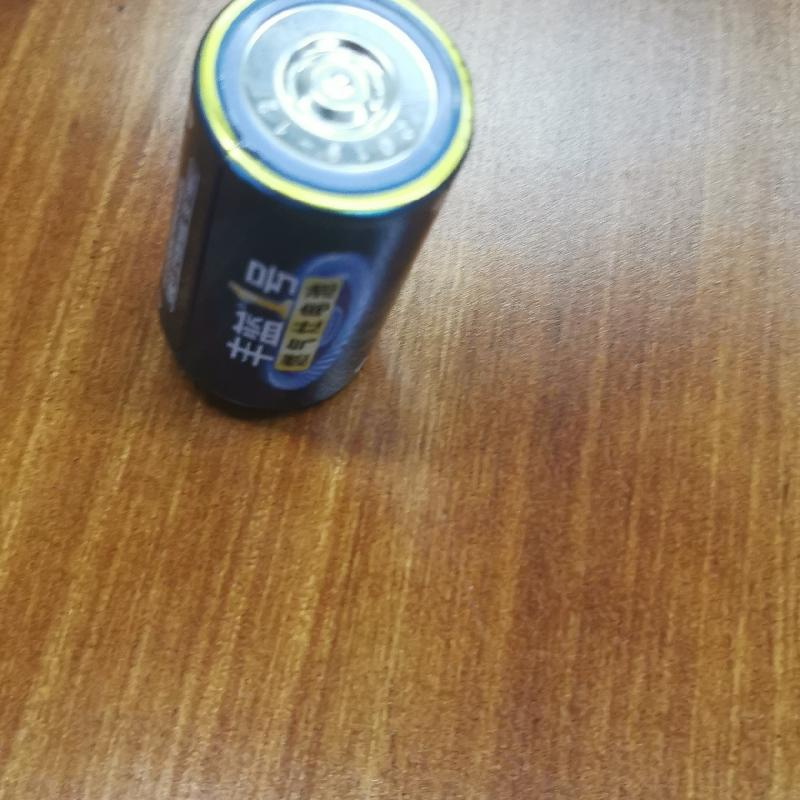battery: (150, 2, 477, 424)
